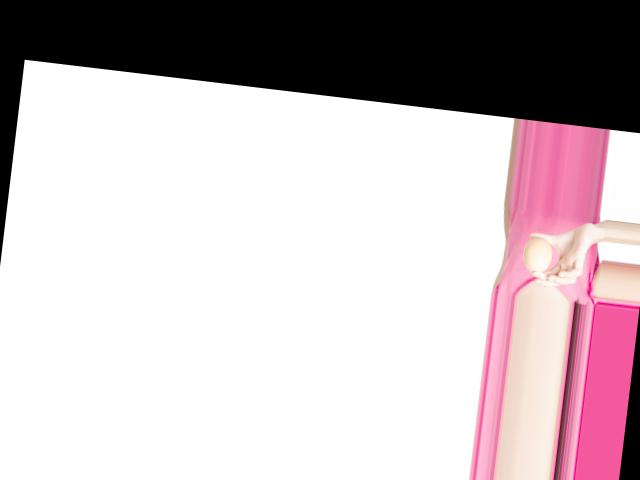egg: (522, 235, 554, 274)
